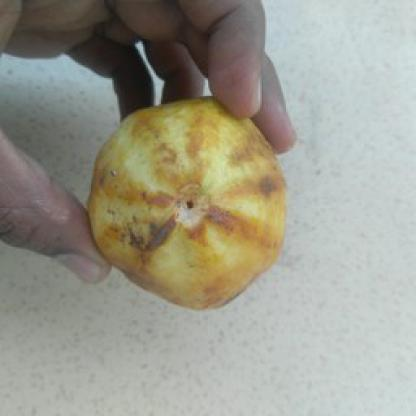guava_rotten: (82, 93, 288, 312)
